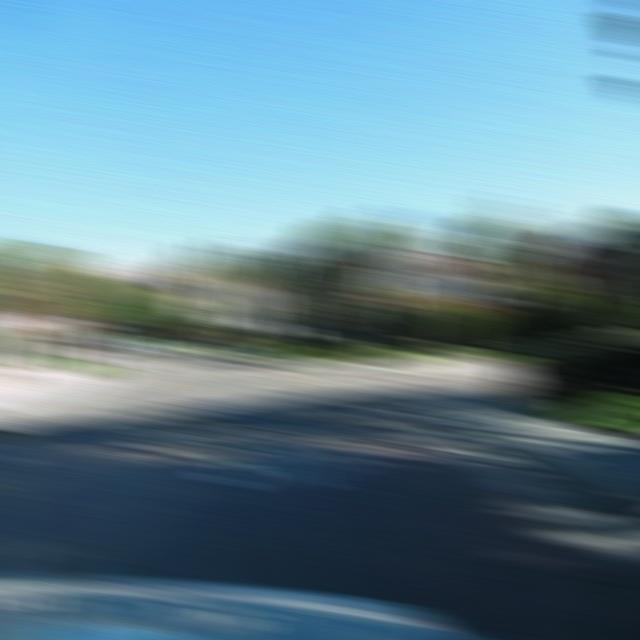stop_sign: (540, 234, 599, 283)
